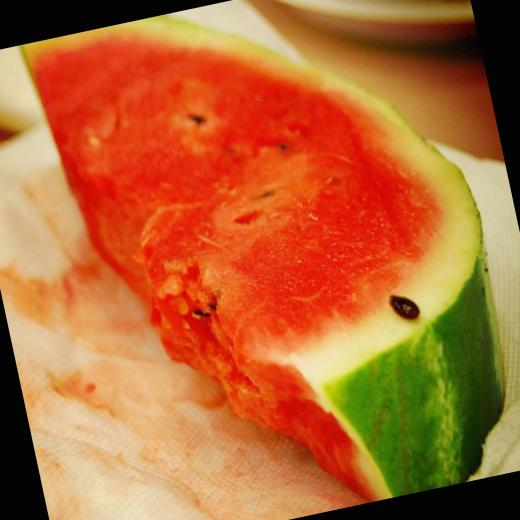Cherry: (17, 0, 520, 520)
